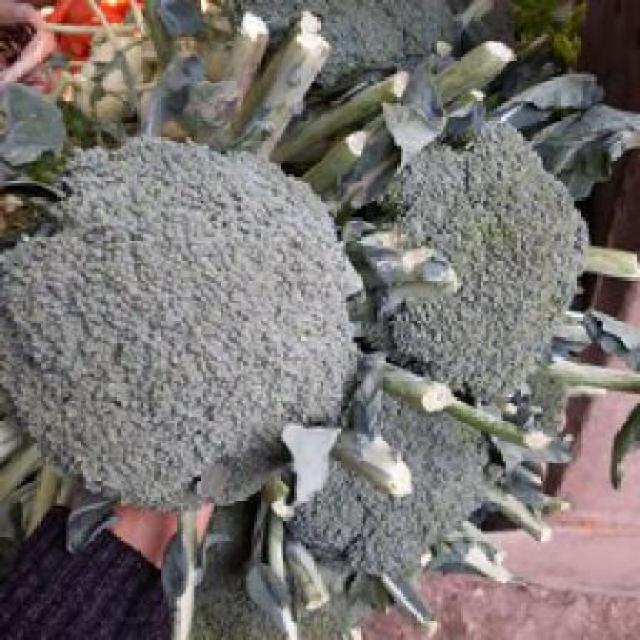broccoli: (6, 137, 346, 494), (377, 133, 597, 410), (291, 420, 524, 569)
